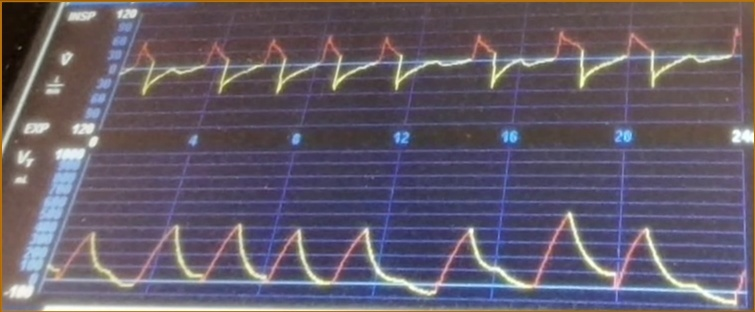Ineffective_effort Flow: (130, 23, 741, 112)
Ineffective_effort Volume: (50, 210, 747, 306)
